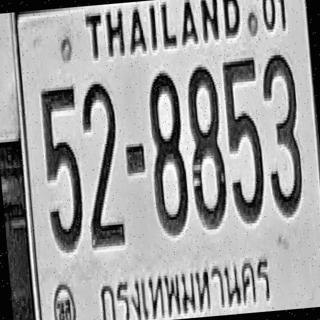N02: (78, 79, 126, 246)
N03: (259, 50, 306, 214)
N05: (39, 82, 88, 252), (221, 53, 268, 223)
N08: (144, 68, 191, 235), (183, 63, 230, 228)
P04: (91, 248, 276, 320)
